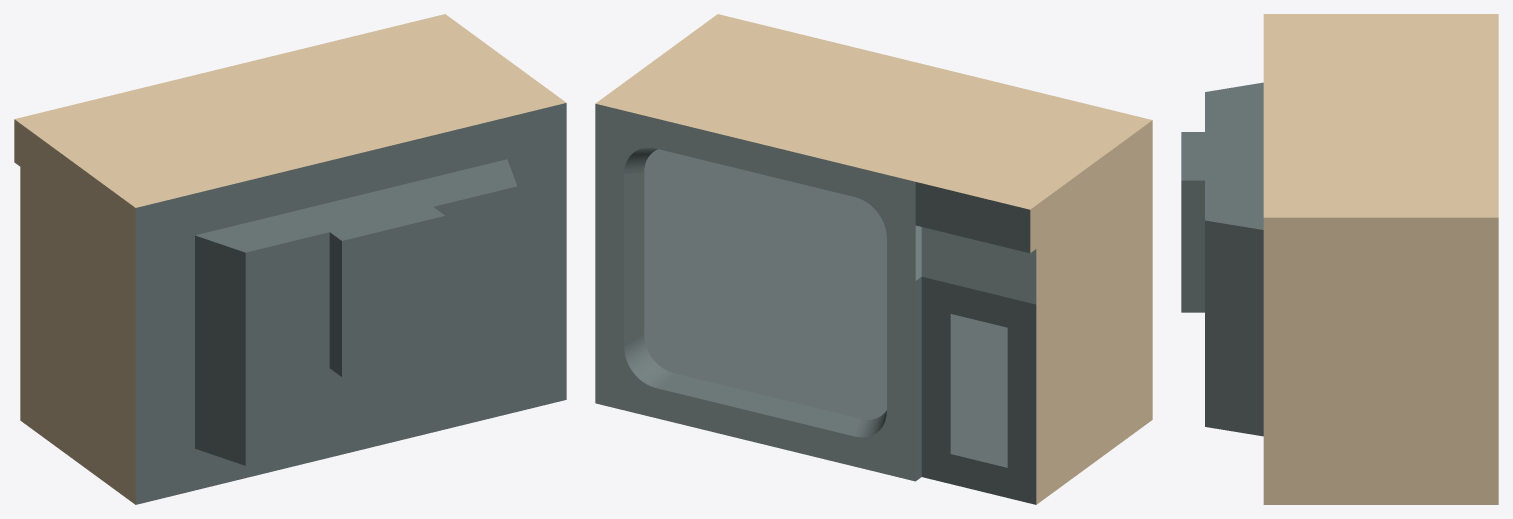
File: televisionVintage.glb
3 views of the same model, side by side, from view 1: azimuth 30°, elevation 25°; view 2: azimuth 150°, elevation 25°; view 3: azimuth 270°, elevation 25° (orthographic). The views are drawn at different scales.
Parts seen in each view (by area): view 1: televisionVintage; view 2: televisionVintage; view 3: televisionVintage.
Boxes of the visible parts, x1=… form: televisionVintage: x1=14, y1=14, x2=566, y2=504; televisionVintage: x1=595, y1=14, x2=1152, y2=504; televisionVintage: x1=1181, y1=14, x2=1498, y2=504.
Size of the model in its own units: 4.1 by 2.7 by 2.7.
